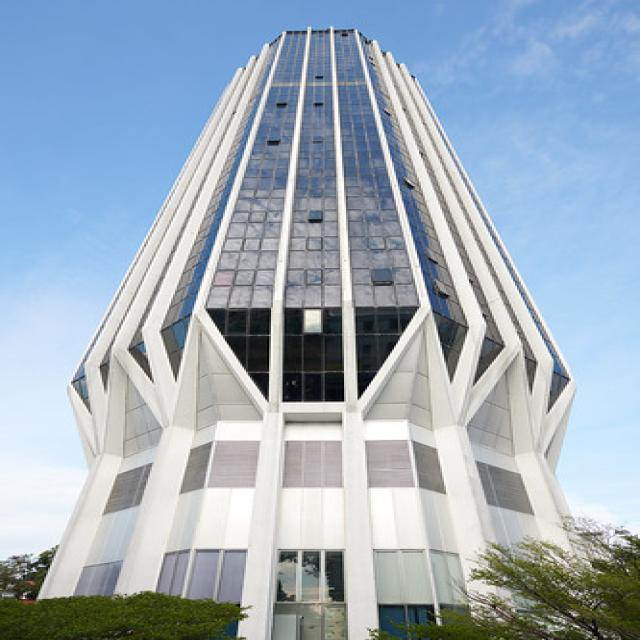building: (51, 19, 593, 640)
